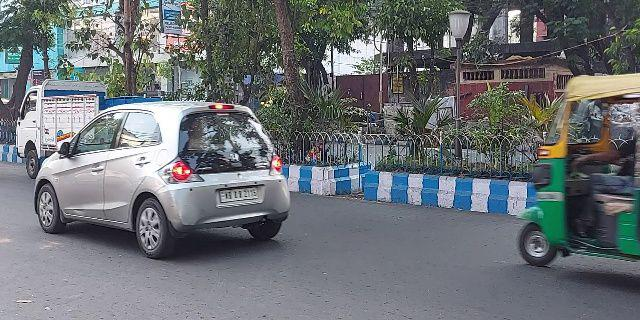Autorickshaw: (500, 73, 640, 267)
Car: (31, 99, 301, 256)
Minitruck: (13, 84, 155, 181)
